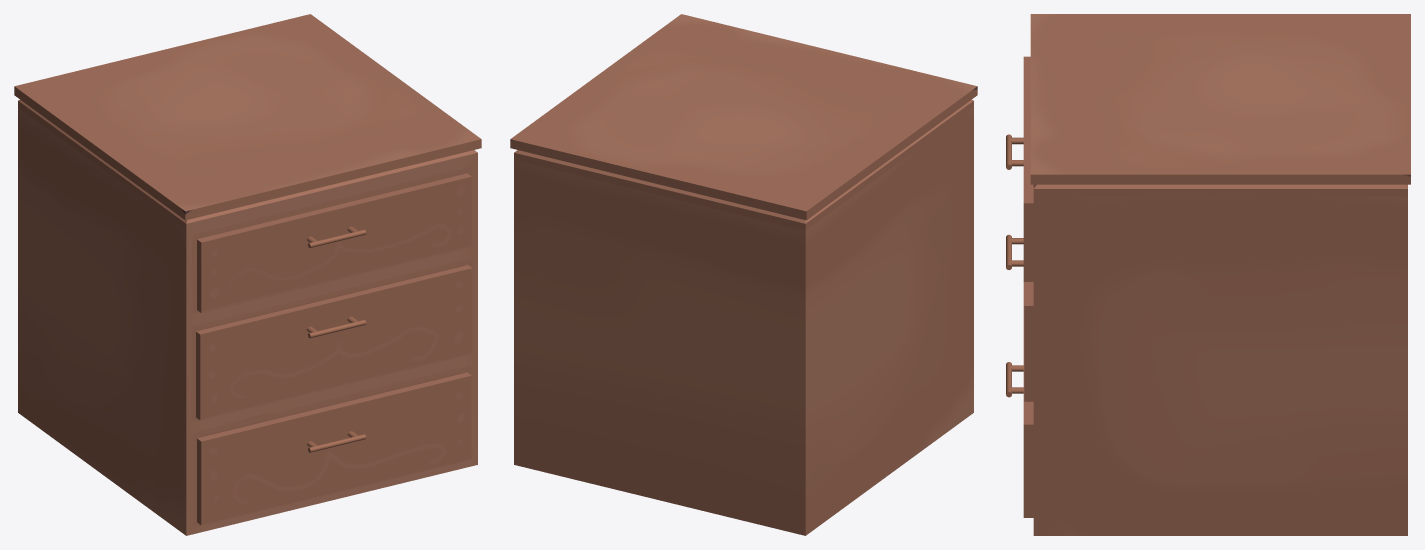
The model's file is counter 3 shump asset.fbx.
The picture shows the model from 3 angles, left to right: view 1: azimuth 30°, elevation 25°; view 2: azimuth 150°, elevation 25°; view 3: azimuth 270°, elevation 25°; orthographic projection. The views are drawn at different scales.
Visible parts, largest first — view 1: counter 3; view 2: counter 3; view 3: counter 3.
Part boxes in pixels (x1,y1,x2,y2): counter 3: (14,14,481,535); counter 3: (510,14,977,535); counter 3: (1006,14,1410,535).
Bounding box in the file's own units: 297 × 313 × 317.
